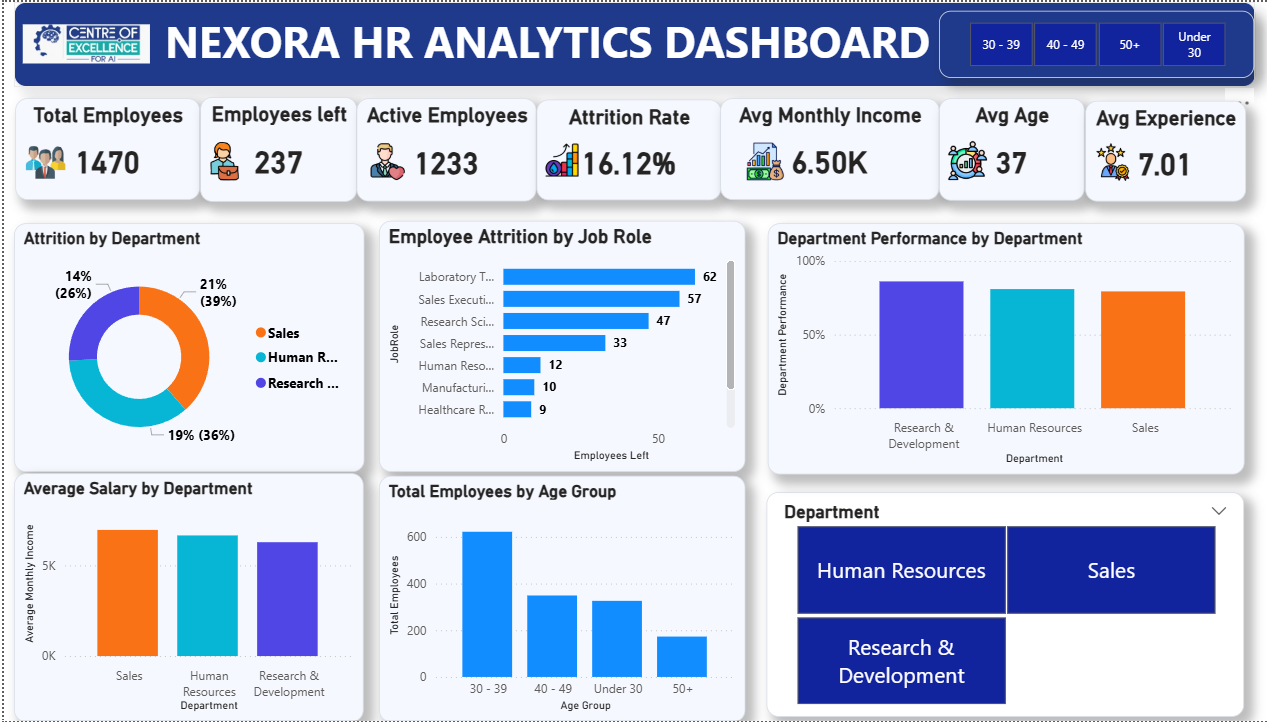

Layout of this report page (visuals, bound fields, positions):
{"tool":"powerbi","page":{"name":"            HR ANALYTICS DASHBOARD","canvas":[1280,720],"ordinal":0},"visuals":[{"type":"textbox","box":[10,0,1241.2,85],"z":0},{"type":"card","title":"Total Employees","fields":{"Values":["Employee.Total Employees"]},"box":[11,96.6,184.6,101.5],"z":1000},{"type":"card","title":"Employees left","fields":{"Values":["Employee.Employees Left"]},"box":[195.7,95.4,157,104.7],"z":2000},{"type":"card","title":"Active Employees","fields":{"Values":["Employee.Employees Active"]},"box":[352.2,96.6,180.2,103.5],"z":3000},{"type":"card","title":"Attrition Rate","fields":{"Values":["Employee.Attrition Rate"]},"box":[531.9,97.8,184.9,101.2],"z":4000},{"type":"card","title":"Avg Monthly Income","fields":{"Values":["Employee.Average Monthly Income"]},"box":[716.6,96.6,218.9,101.5],"z":5000},{"type":"card","title":"Avg Age","fields":{"Values":["Employee.Average Age"]},"box":[935.5,96.6,145.3,102.3],"z":6000},{"type":"card","title":"Avg Experience","fields":{"Values":["Employee.Average Years at Company"]},"box":[1081,99,160.5,101.2],"z":7000},{"type":"image","box":[10.5,139.5,62.8,40.7],"z":8000},{"type":"image","box":[195.3,139.5,51.2,38.4],"z":9000},{"type":"image","box":[352.2,140.6,62.4,36.7],"z":10000},{"type":"image","box":[513.6,141.8,88.4,33.7],"z":11000},{"type":"image","box":[742.3,135.7,37.9,46.5],"z":12000},{"type":"image","box":[944,135.7,40.4,45.2],"z":13000},{"type":"image","box":[1081,141.8,55,37.9],"z":14000},{"type":"donutChart","title":"Attrition by Department","fields":{"Category":["Employee.Department"],"Y":["Employee.Attrition Rate"]},"box":[10,221.2,350,248.8],"z":15000},{"type":"clusteredBarChart","title":"Employee Attrition by Job Role","fields":{"Y":["Employee.Employees Left"],"Category":["Employee.JobRole"]},"box":[375,218.8,366.2,251.2],"z":16000},{"type":"clusteredColumnChart","title":"Average Salary by Department","fields":{"Category":["Employee.Department"],"Y":["Employee.Average Monthly Income"]},"box":[10.4,470.6,349.4,249],"z":17000},{"type":"clusteredColumnChart","fields":{"Category":["Employee.Age Group"],"Y":["Employee.Total Employees"]},"box":[375.5,473.3,366.3,246.4],"z":18000},{"type":"slicer","fields":{"Values":["Employee.Department"]},"box":[762.8,489.5,477.9,224.4],"z":19000},{"type":"slicer","fields":{"Values":["Employee.Age Group"]},"box":[935.5,8.6,315.5,67.3],"z":20000},{"type":"image","box":[18.8,17.5,127.5,48.8],"z":21000},{"type":"columnChart","fields":{"Category":["Employee.Department"],"Y":["Employee.Department Performance"]},"box":[764,220.9,476.7,251.2],"z":22000}]}

Visuals, with their boxes in screenshot pixels (x1, y1, x2, y2), scaled from the page's 1280x720 canvas onto the 1267x722 screenshot:
textbox: bbox(10, 0, 1238, 85)
"Total Employees" card: bbox(11, 97, 194, 199)
"Employees left" card: bbox(194, 96, 349, 201)
"Active Employees" card: bbox(349, 97, 527, 201)
"Attrition Rate" card: bbox(526, 98, 710, 200)
"Avg Monthly Income" card: bbox(709, 97, 926, 199)
"Avg Age" card: bbox(926, 97, 1070, 199)
"Avg Experience" card: bbox(1070, 99, 1229, 201)
image: bbox(10, 140, 73, 181)
image: bbox(193, 140, 244, 178)
image: bbox(349, 141, 410, 178)
image: bbox(508, 142, 596, 176)
image: bbox(735, 136, 772, 183)
image: bbox(934, 136, 974, 181)
image: bbox(1070, 142, 1124, 180)
"Attrition by Department" donutChart: bbox(10, 222, 356, 471)
"Employee Attrition by Job Role" clusteredBarChart: bbox(371, 219, 734, 471)
"Average Salary by Department" clusteredColumnChart: bbox(10, 472, 356, 721)
clusteredColumnChart - Employee.Age Group x Employee.Total Employees: bbox(372, 475, 734, 721)
slicer - Employee.Department: bbox(755, 491, 1228, 716)
slicer - Employee.Age Group: bbox(926, 9, 1238, 76)
image: bbox(19, 18, 145, 66)
columnChart - Employee.Department x Employee.Department Performance: bbox(756, 222, 1228, 473)
